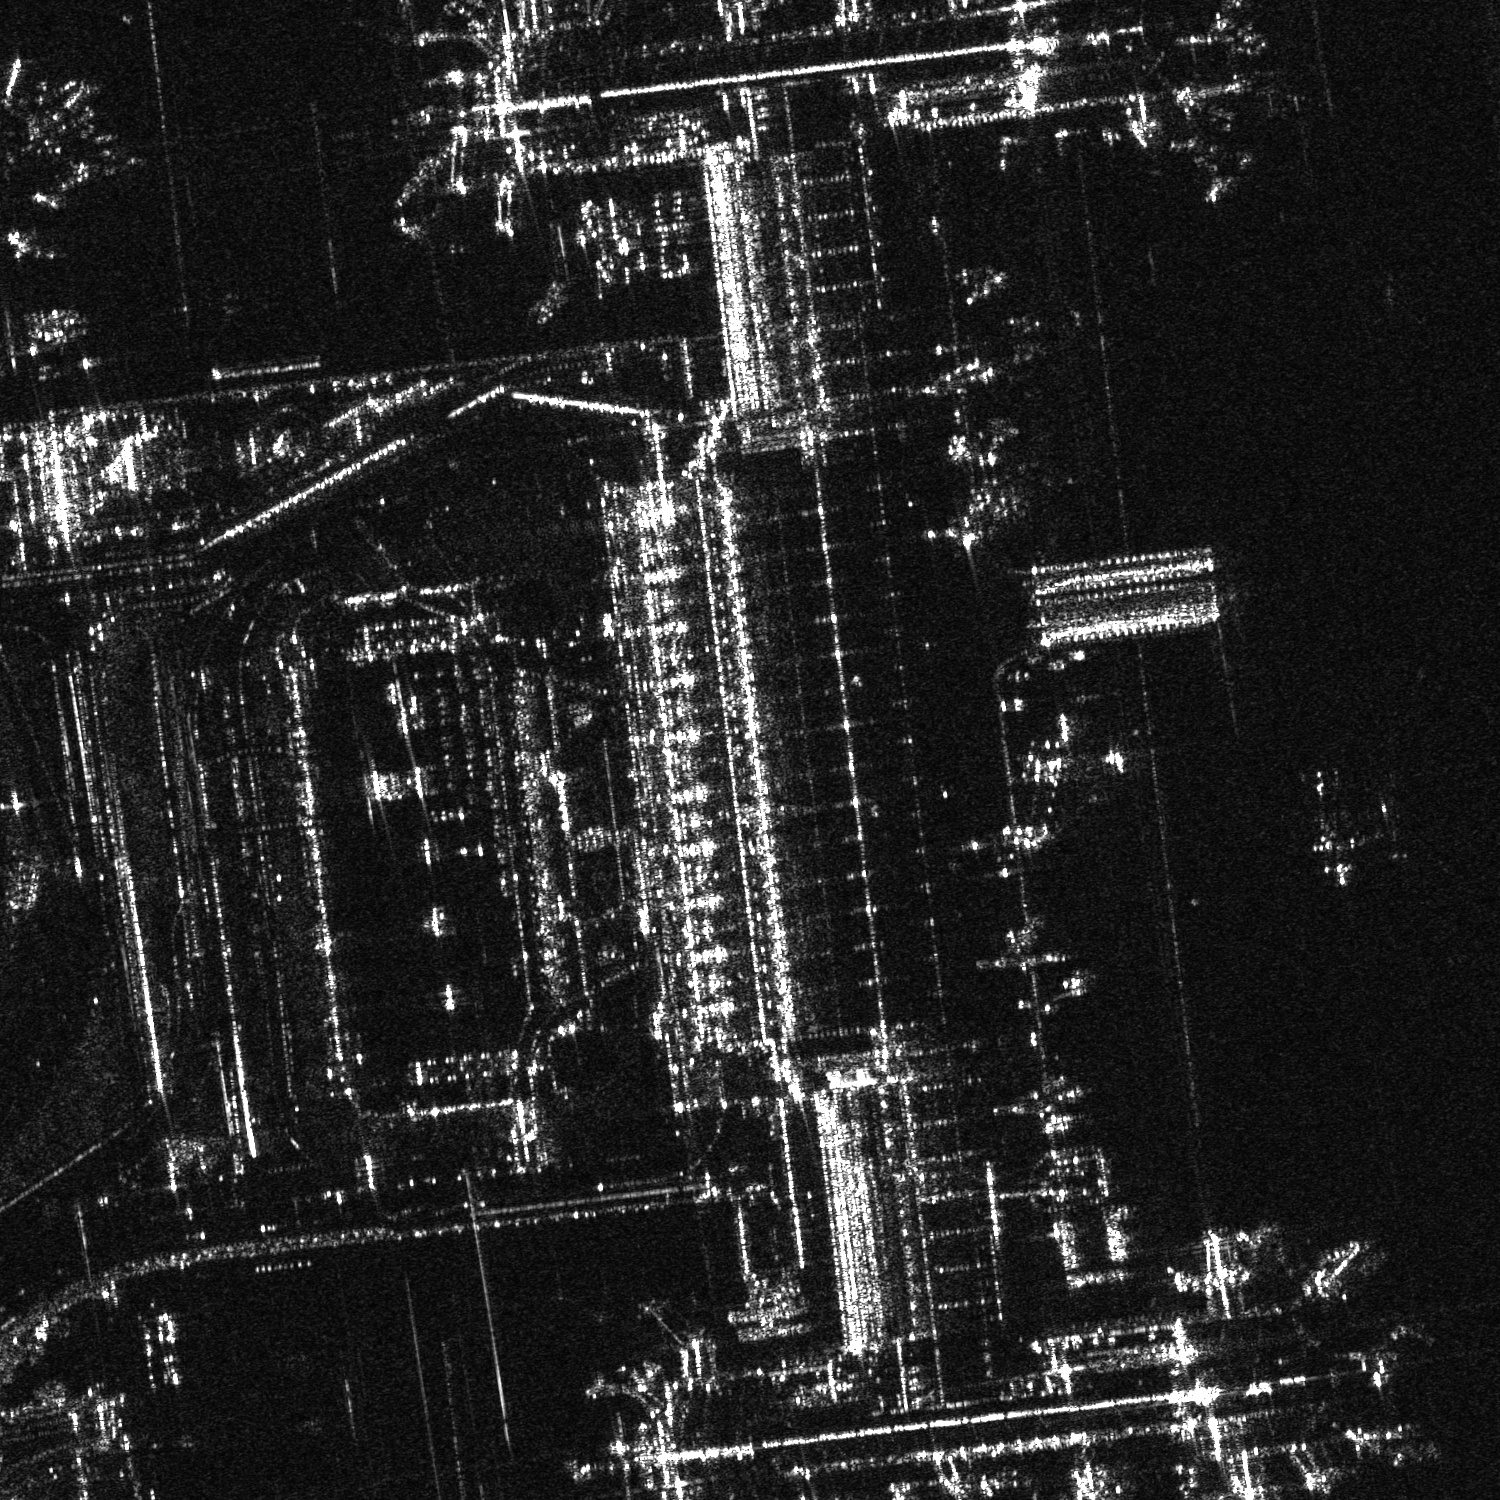Boeing787: (985, 909, 1085, 999)
